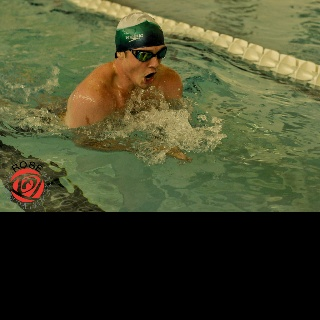without_mask: (121, 44, 166, 90)
